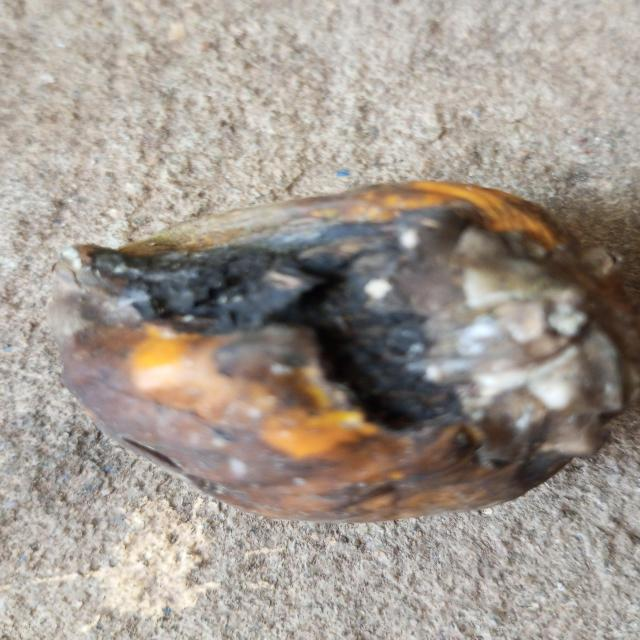damaged: (56, 181, 640, 525)
